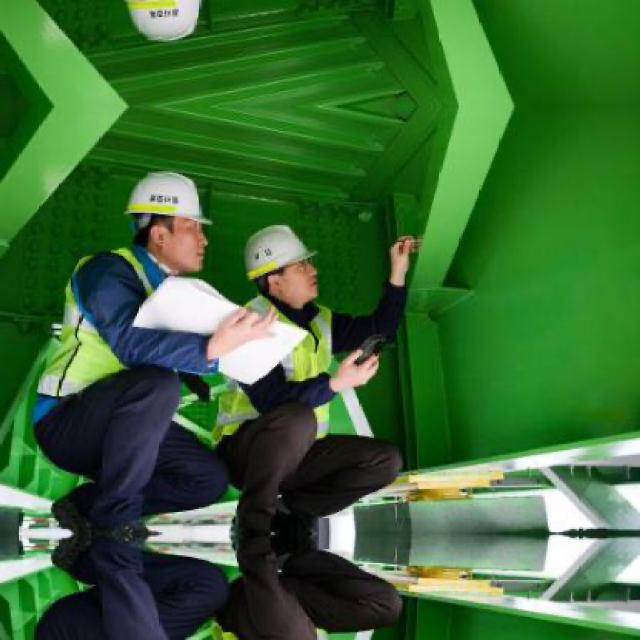helmet: (117, 168, 214, 275), (233, 224, 324, 313), (117, 0, 216, 46)
